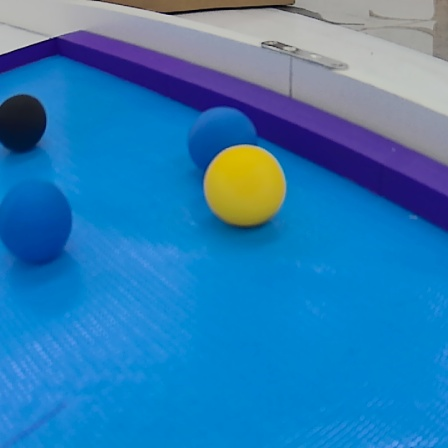black: (0, 93, 49, 158)
blue: (0, 178, 76, 268), (188, 105, 263, 178)
blue_aim: (1, 30, 448, 448)
yellow: (202, 140, 291, 228)
